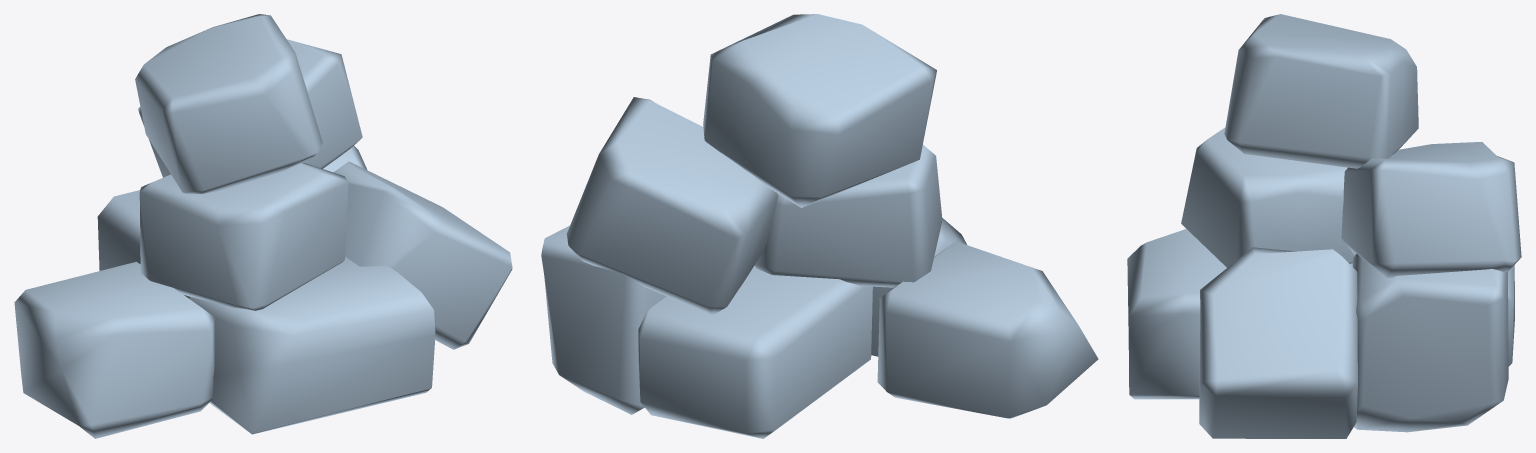
File: Slab_Pile_03_Lod0.fbx
The picture shows the model from 3 angles, left to right: view 1: azimuth 30°, elevation 25°; view 2: azimuth 150°, elevation 25°; view 3: azimuth 270°, elevation 25°; orthographic projection. The views are drawn at different scales.
Parts seen in each view (by area): view 1: Slab_Pile_03_Lod0; view 2: Slab_Pile_03_Lod0; view 3: Slab_Pile_03_Lod0.
Boxes of the visible parts, x1,y1,x2,y2 form: Slab_Pile_03_Lod0: [14, 14, 512, 438]; Slab_Pile_03_Lod0: [541, 14, 1098, 438]; Slab_Pile_03_Lod0: [1127, 14, 1521, 438].
Size of the model in its own units: 120 by 82.01 by 90.73.
